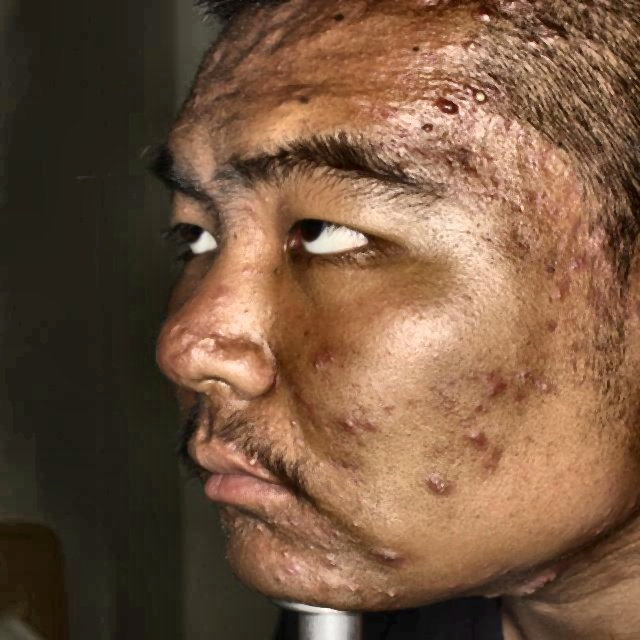papule: (424, 465, 480, 505), (464, 148, 502, 192), (528, 178, 566, 220), (527, 377, 571, 410), (478, 368, 516, 406), (454, 20, 489, 60), (434, 137, 468, 176), (458, 386, 490, 426), (540, 279, 576, 306), (388, 574, 413, 611), (502, 382, 532, 412), (468, 427, 502, 452), (339, 574, 365, 602), (472, 459, 502, 482), (475, 82, 497, 112), (437, 93, 460, 116), (474, 2, 494, 26), (207, 319, 226, 344), (533, 312, 558, 330), (371, 542, 399, 558), (170, 322, 190, 344), (333, 414, 357, 432), (308, 350, 326, 364), (289, 554, 301, 573)
